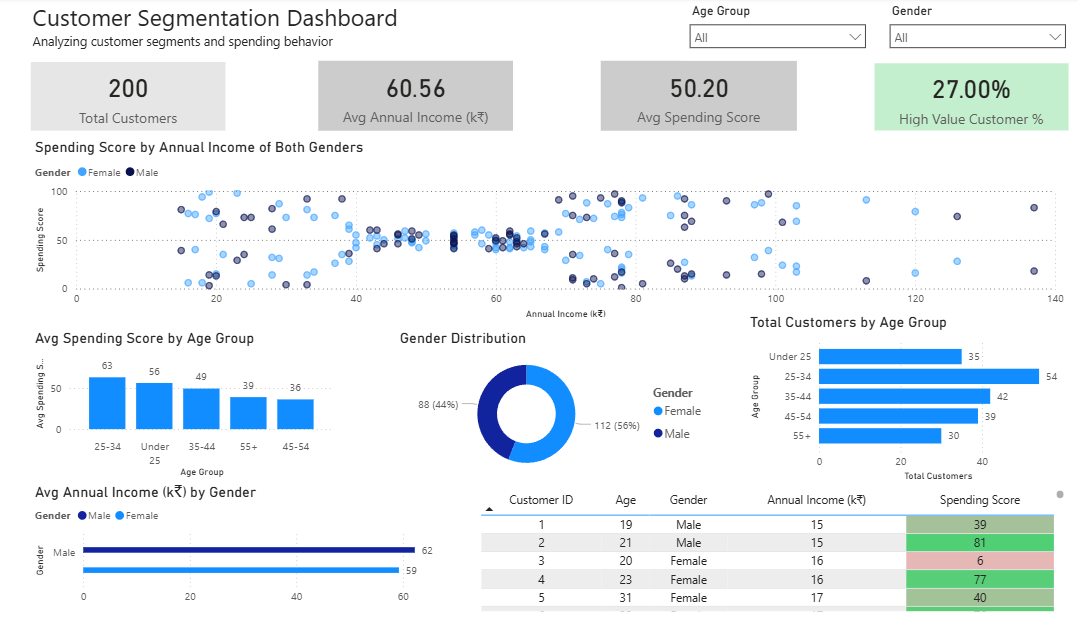

The dashboard page shown, as its layout file describes it:
{"tool":"powerbi","page":{"name":"Page 1","canvas":[1280,720],"ordinal":0},"visuals":[{"type":"card","fields":{"Values":["Customers.Total Customers"]},"box":[67.8,75,225.1,79.4],"z":0},{"type":"card","fields":{"Values":["Customers.High Value Customer %"]},"box":[1041.7,76.5,223.6,77.9],"z":1000},{"type":"card","fields":{"Values":["Customers.Avg Spending Score"]},"box":[725.7,73.6,226.5,80.8],"z":2000},{"type":"card","fields":{"Values":["Customers.Avg Annual Income"]},"box":[399.6,73.6,225.1,80.8],"z":3000},{"type":"textbox","box":[64.9,0,828.1,69.3],"z":4000},{"type":"slicer","fields":{"Values":["Customers.Age Group"]},"box":[818.1,2.4,223.6,70.7],"z":5000},{"type":"slicer","fields":{"Values":["Customers.Gender"]},"box":[1048.9,2.4,223.6,70.7],"z":6000},{"type":"scatterChart","title":"Spending Score by Annual Income of Both Genders","fields":{"X":["Customers.Annual Income (k₹)"],"Y":["Customers.Spending Score"],"Series":["Customers.Gender"]},"box":[67.8,163,1197.5,213.5],"z":7000},{"type":"clusteredColumnChart","fields":{"Category":["Customers.Age Group"],"Y":["Customers.Avg Spending Score"]},"box":[67.8,383.8,354.9,176],"z":8000},{"type":"clusteredBarChart","fields":{"Y":["Customers.Total Customers"],"Category":["Customers.Age Group"]},"box":[893.1,365,372.2,199.1],"z":9000},{"type":"donutChart","title":"Gender Distribution","fields":{"Category":["Customers.Gender"],"Y":["CountNonNull(Customers.Gender)"]},"box":[489.1,383.8,367.9,176],"z":10000},{"type":"clusteredBarChart","title":"Avg Annual Income (k₹) by Gender","fields":{"Series":["Customers.Gender"],"Category":["Customers.Gender"],"Y":["Customers.Avg Annual Income (k₹)"]},"box":[67.8,559.8,556.9,150],"z":11000},{"type":"tableEx","fields":{"Values":["Customers.Customer ID","Customers.Age","Customers.Gender","Customers.Annual Income (k₹)","Customers.Spending Score"]},"box":[581.4,564.1,683.9,150],"z":12000}]}

Visuals, with their boxes in screenshot pixels (x1, y1, x2, y2), scaled from the page's 1280x720 canvas onto the 1078x617 screenshot:
card - Customers.Total Customers: [57, 64, 247, 132]
card - Customers.High Value Customer %: [877, 66, 1066, 132]
card - Customers.Avg Spending Score: [611, 63, 802, 132]
card - Customers.Avg Annual Income: [337, 63, 526, 132]
textbox: [55, 0, 752, 59]
slicer - Customers.Age Group: [689, 2, 877, 63]
slicer - Customers.Gender: [883, 2, 1072, 63]
"Spending Score by Annual Income of Both Genders" scatterChart: [57, 140, 1066, 323]
clusteredColumnChart - Customers.Age Group x Customers.Avg Spending Score: [57, 329, 356, 480]
clusteredBarChart - Customers.Total Customers x Customers.Age Group: [752, 313, 1066, 483]
"Gender Distribution" donutChart: [412, 329, 722, 480]
"Avg Annual Income (k₹) by Gender" clusteredBarChart: [57, 480, 526, 608]
tableEx - Customers.Customer ID x Customers.Age: [490, 483, 1066, 612]
